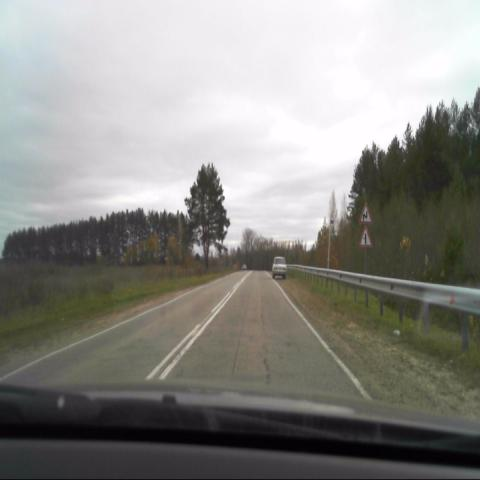1_12: (358, 203, 372, 225)
2_3_3: (358, 227, 371, 247)
